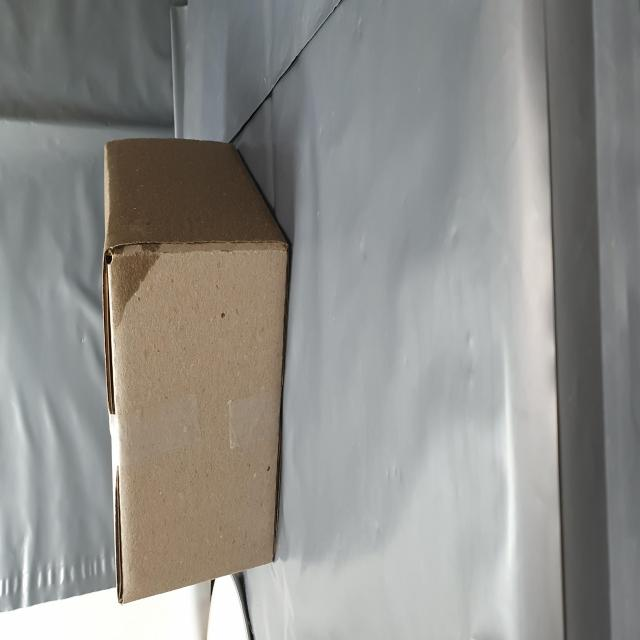wet: (177, 186, 231, 284)
